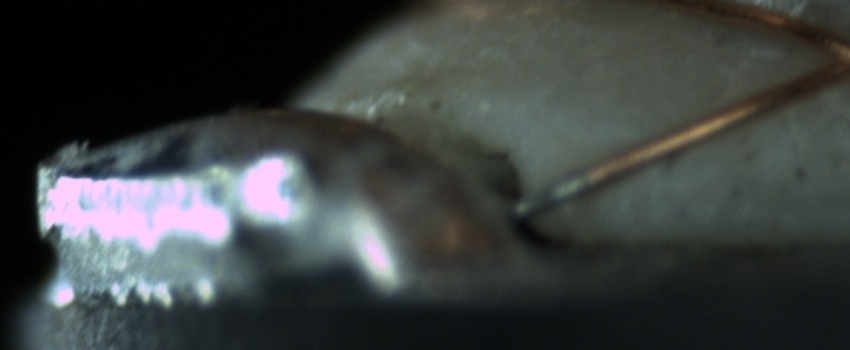CL: (803, 25, 850, 91)
TS: (512, 170, 592, 219)
